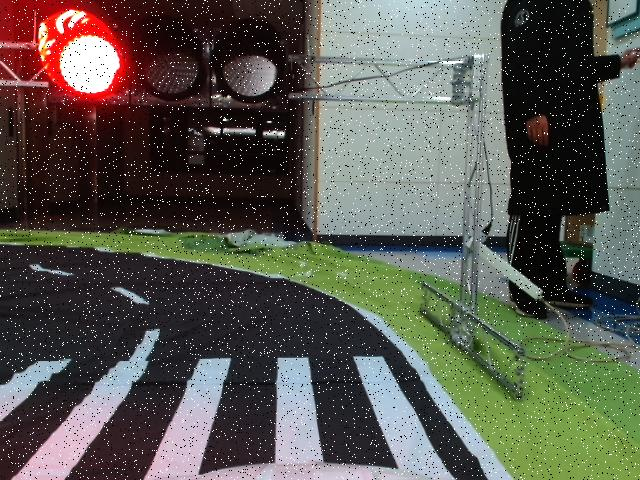crosswalk: (0, 356, 460, 480)
traffic light-red-: (39, 11, 288, 111)
